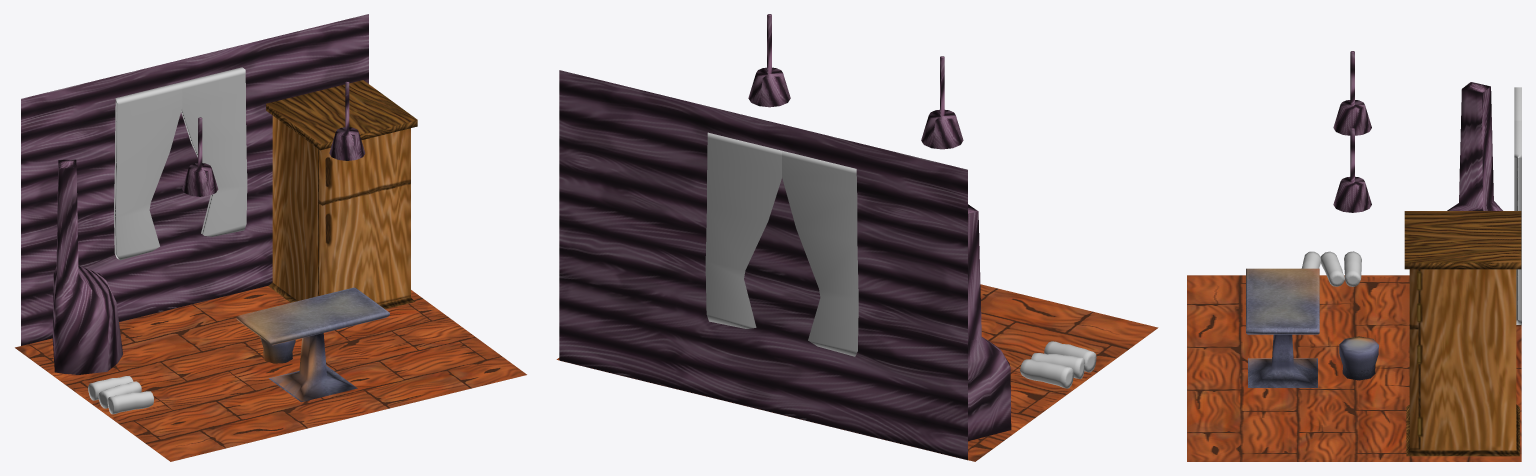
The model's file is KitchenScene.fbx.
3 renders of one model, left to right at view 1: azimuth 30°, elevation 25°; view 2: azimuth 150°, elevation 25°; view 3: azimuth 270°, elevation 25°, orthographic. The views are drawn at different scales.
Visible parts, largest first — view 1: Pared, Piso, Refri, Cortinas1, Chimenea, Mesa, Lampara3, Lampara2, Tronco, Silla; view 2: Pared, Cortinas1, Piso, Chimenea, Lampara3, Lampara2, tronco, Tronco, tronco1; view 3: Piso, Refri, Mesa, Chimenea, Silla, Cortinas1, Lampara3, Lampara2, tronco1, tronco.
Boxes of the visible parts, x1,y1,x2,y2 form: Pared: (21, 14, 368, 345); Piso: (15, 286, 526, 461); Refri: (266, 80, 417, 309); Cortinas1: (114, 67, 247, 260); Chimenea: (52, 159, 122, 374); Mesa: (236, 287, 389, 402); Lampara3: (329, 81, 365, 160); Lampara2: (182, 117, 218, 196); Tronco: (107, 391, 153, 414); Silla: (260, 337, 295, 363); Pared: (559, 70, 967, 460); Cortinas1: (705, 132, 858, 356); Piso: (556, 284, 1158, 461); Chimenea: (968, 204, 1011, 441); Lampara3: (748, 14, 790, 107); Lampara2: (921, 56, 963, 149); tronco: (1020, 359, 1073, 388); Tronco: (1044, 341, 1096, 372); tronco1: (1031, 353, 1084, 378); Piso: (1187, 275, 1521, 461); Refri: (1404, 211, 1521, 456); Mesa: (1246, 268, 1319, 387); Chimenea: (1447, 82, 1502, 210); Silla: (1339, 336, 1378, 380); Cortinas1: (1514, 87, 1521, 324); Lampara3: (1333, 128, 1371, 212); Lampara2: (1333, 51, 1371, 135); tronco1: (1320, 251, 1344, 286); tronco: (1344, 251, 1361, 286).
Size of the model in its own units: 592 by 412 by 447.
